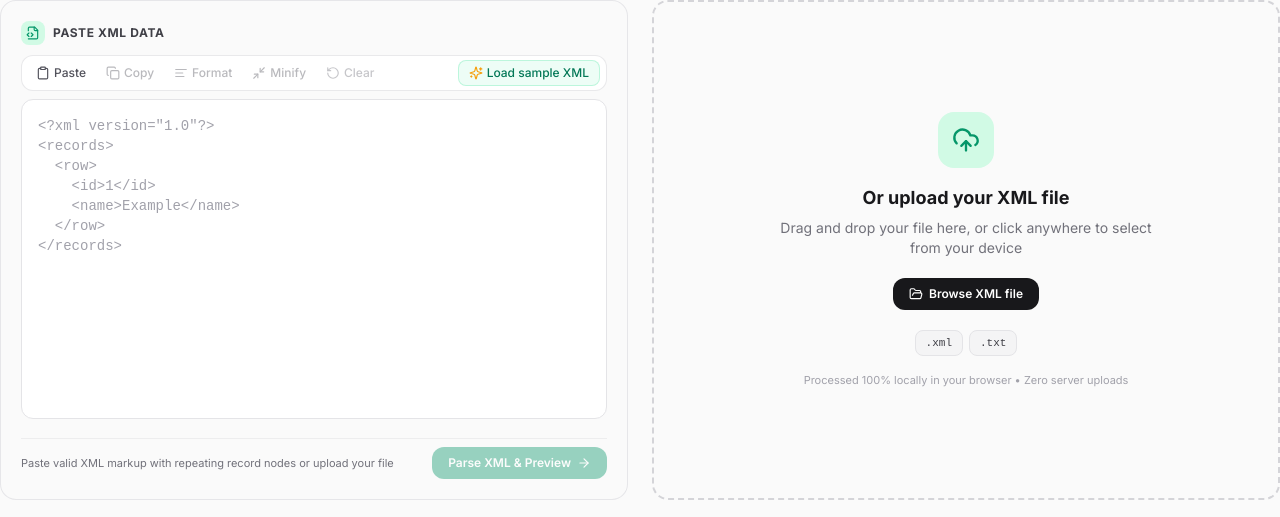
Test case: SplitXmlInput › Clear button empties textarea
Replace the text in the text box named "Paste XML data" with "<root><item/></root>". click: [314, 259]
box: [21,99,607,419]
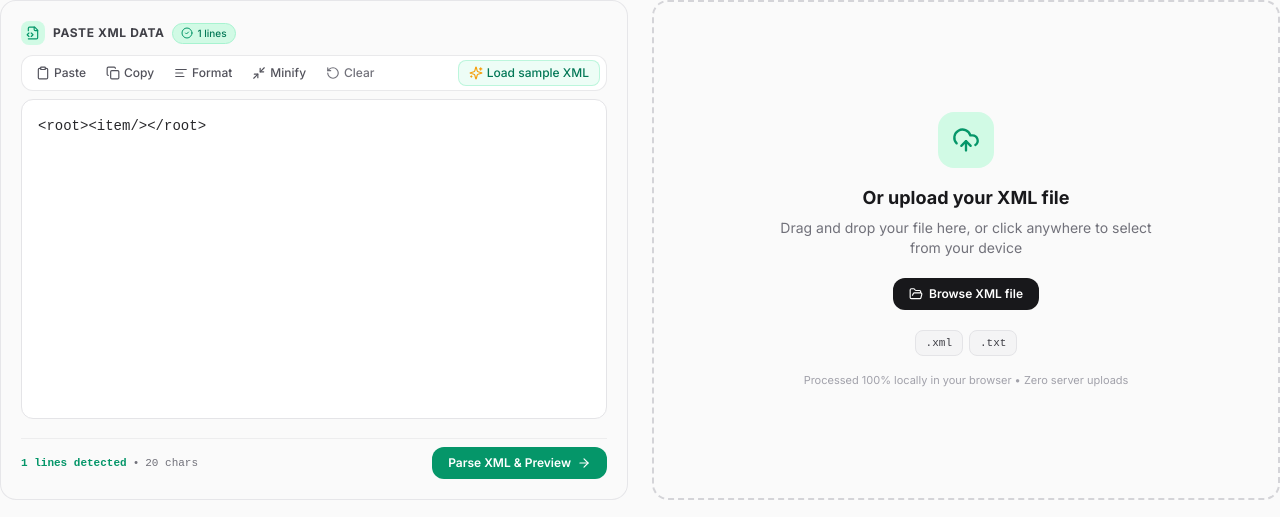
Click the button "Clear". click: [350, 73]
box: [318,61,382,85]
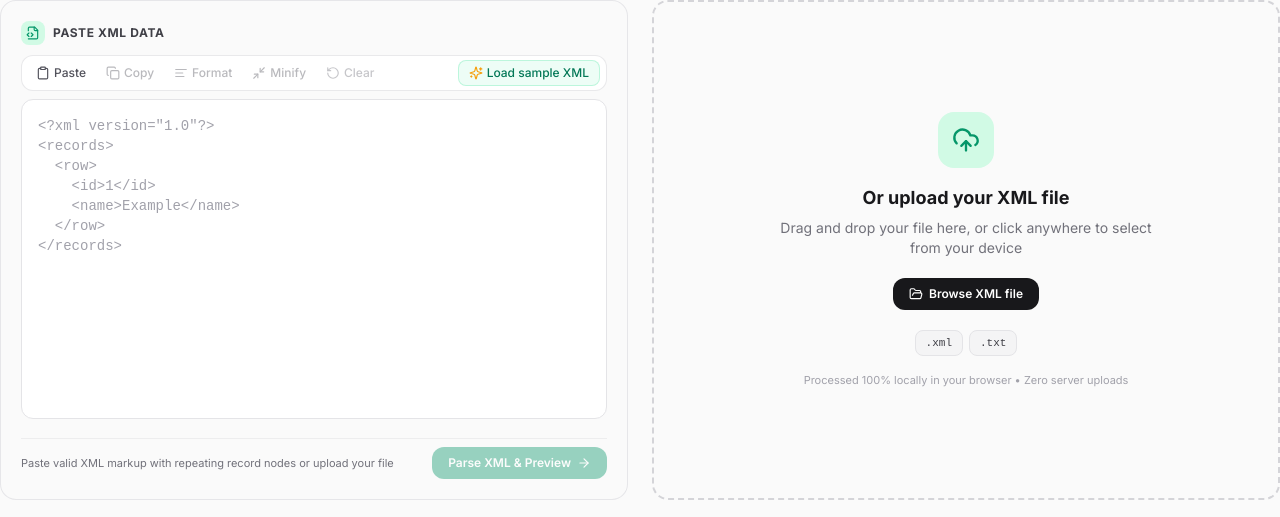
Expected: the text box named "Paste XML data" is empty, [21,99,607,419]
